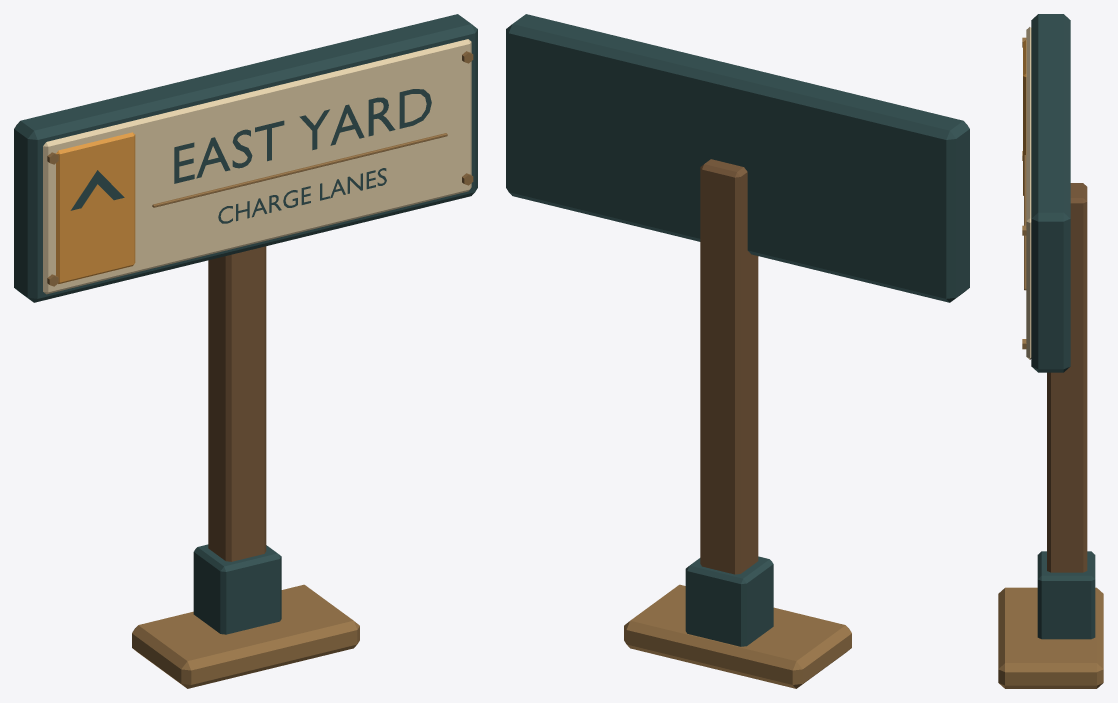
File: w0a-east-direction-yard.glb
3 views of the same model, side by side, from view 1: azimuth 30°, elevation 25°; view 2: azimuth 150°, elevation 25°; view 3: azimuth 270°, elevation 25° (orthographic). The views are drawn at different scales.
Parts seen in each view (by area): view 1: ThresholdDirection_yard; view 2: ThresholdDirection_yard; view 3: ThresholdDirection_yard.
Part boxes in pixels (x1,y1,x2,y2): ThresholdDirection_yard: (14, 14, 477, 688); ThresholdDirection_yard: (506, 14, 969, 688); ThresholdDirection_yard: (998, 14, 1103, 688).
Bounding box in the file's own units: 1.56 × 1.91 × 0.34.
